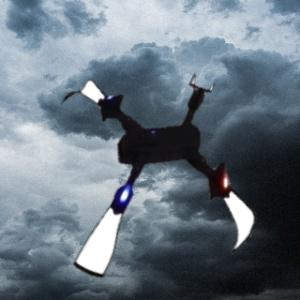drone: (31, 60, 272, 300)
